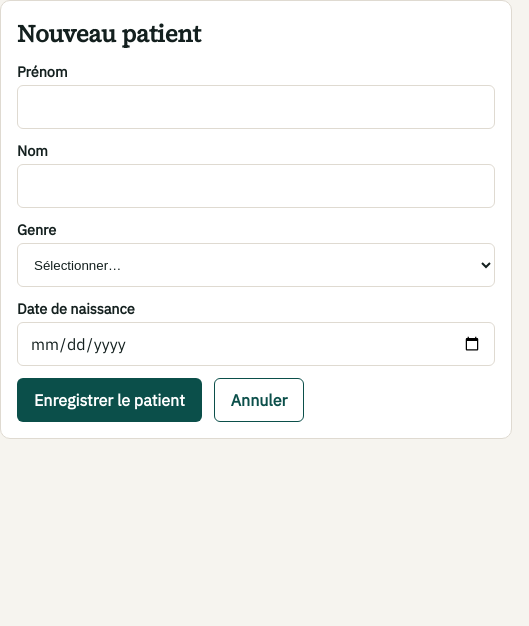
Test: RegisterPatientForm › shows a safe French error, never backend internals, on a definite rejection
In the field labelled "Prénom": (256, 107) [17,85,495,129], type "Synthetique"
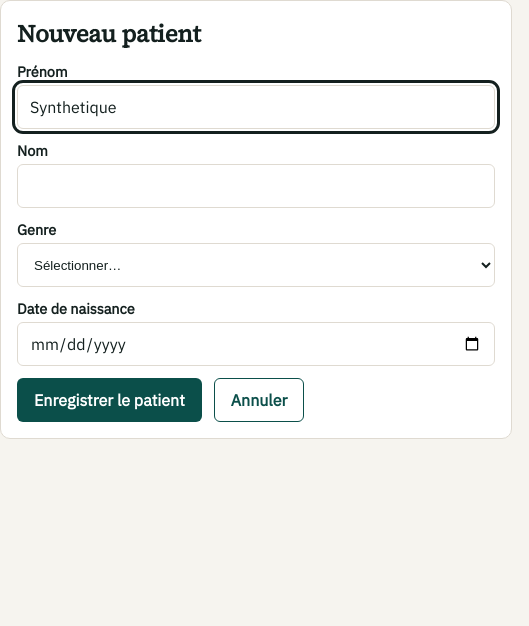
In the field labelled "Nom": (256, 186) [17,164,495,208], type "Test"
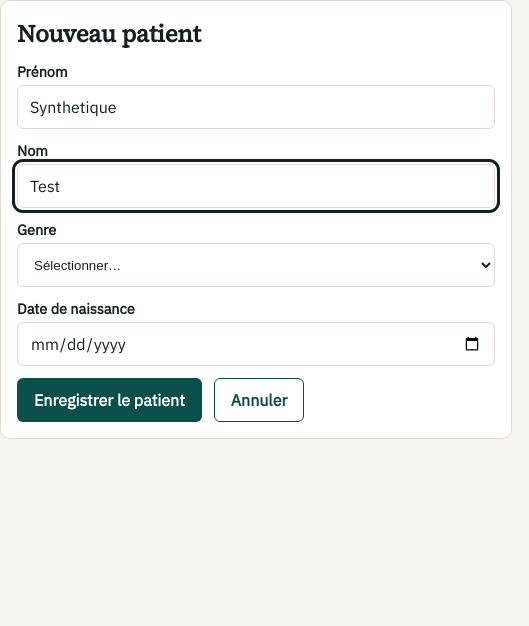
Select "Féminin" in the dropdown labelled "Genre": (256, 265) [17,243,495,287]
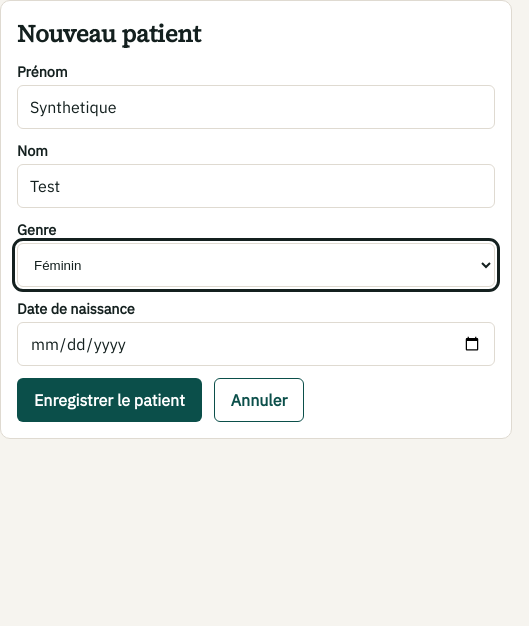
Click the date field labelled "Date de naissance": (256, 344) [17,322,495,366]
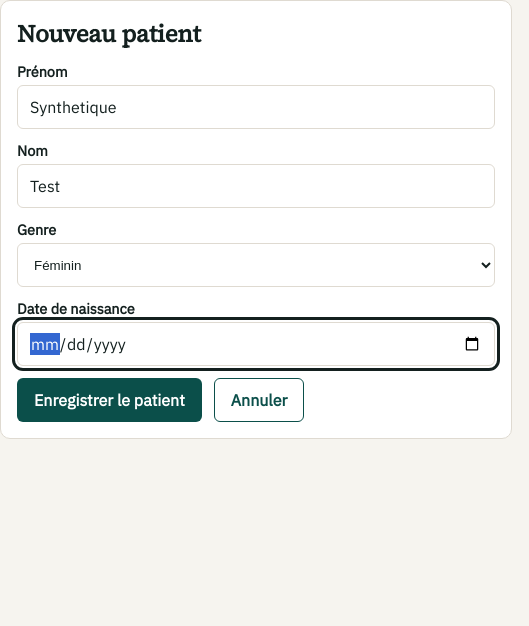
Type keys "1995-06-15"
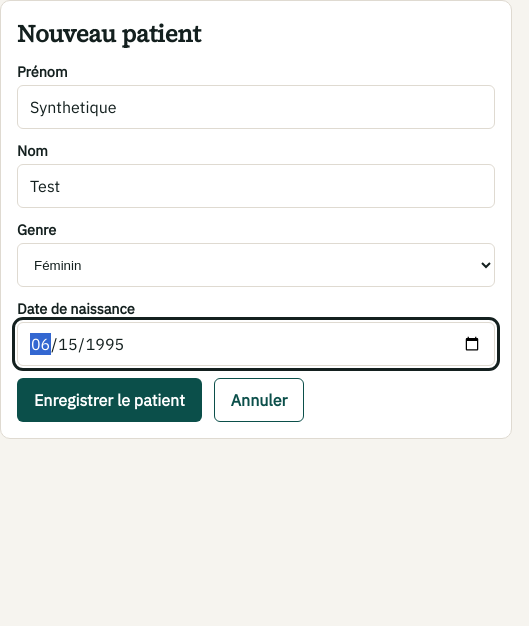
Click the button "Enregistrer le patient": (109, 400) [17,378,202,422]
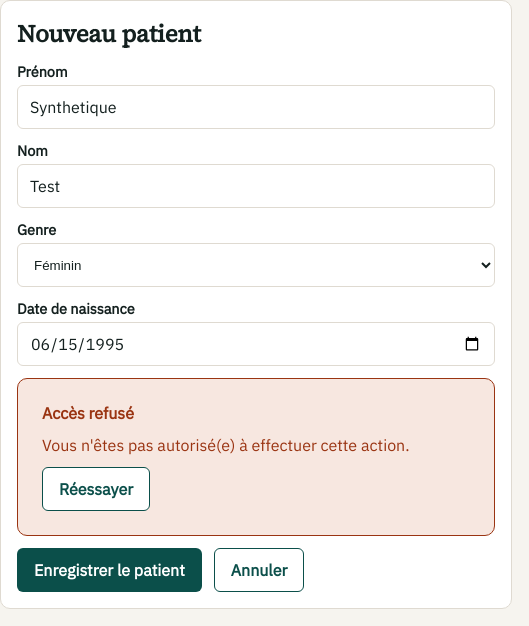
Expected: the text "Accès refusé" is shown, [42,403,134,423]
